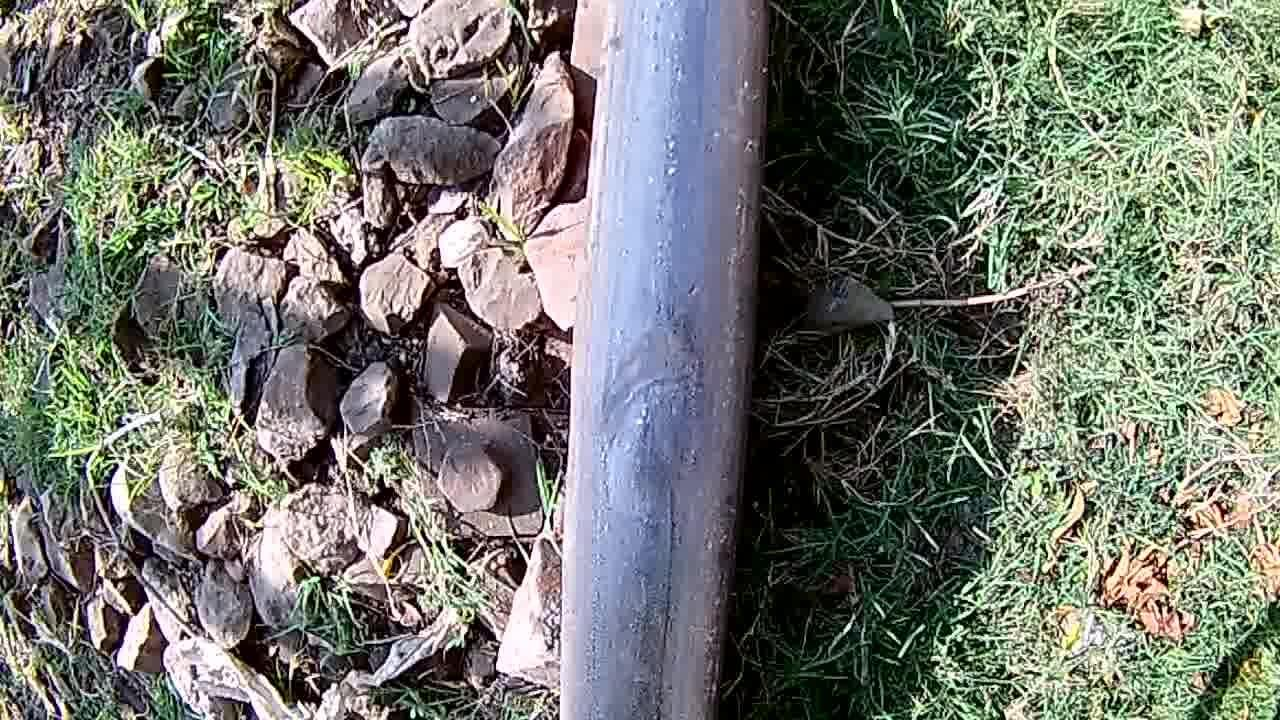crack: (569, 238, 743, 610)
